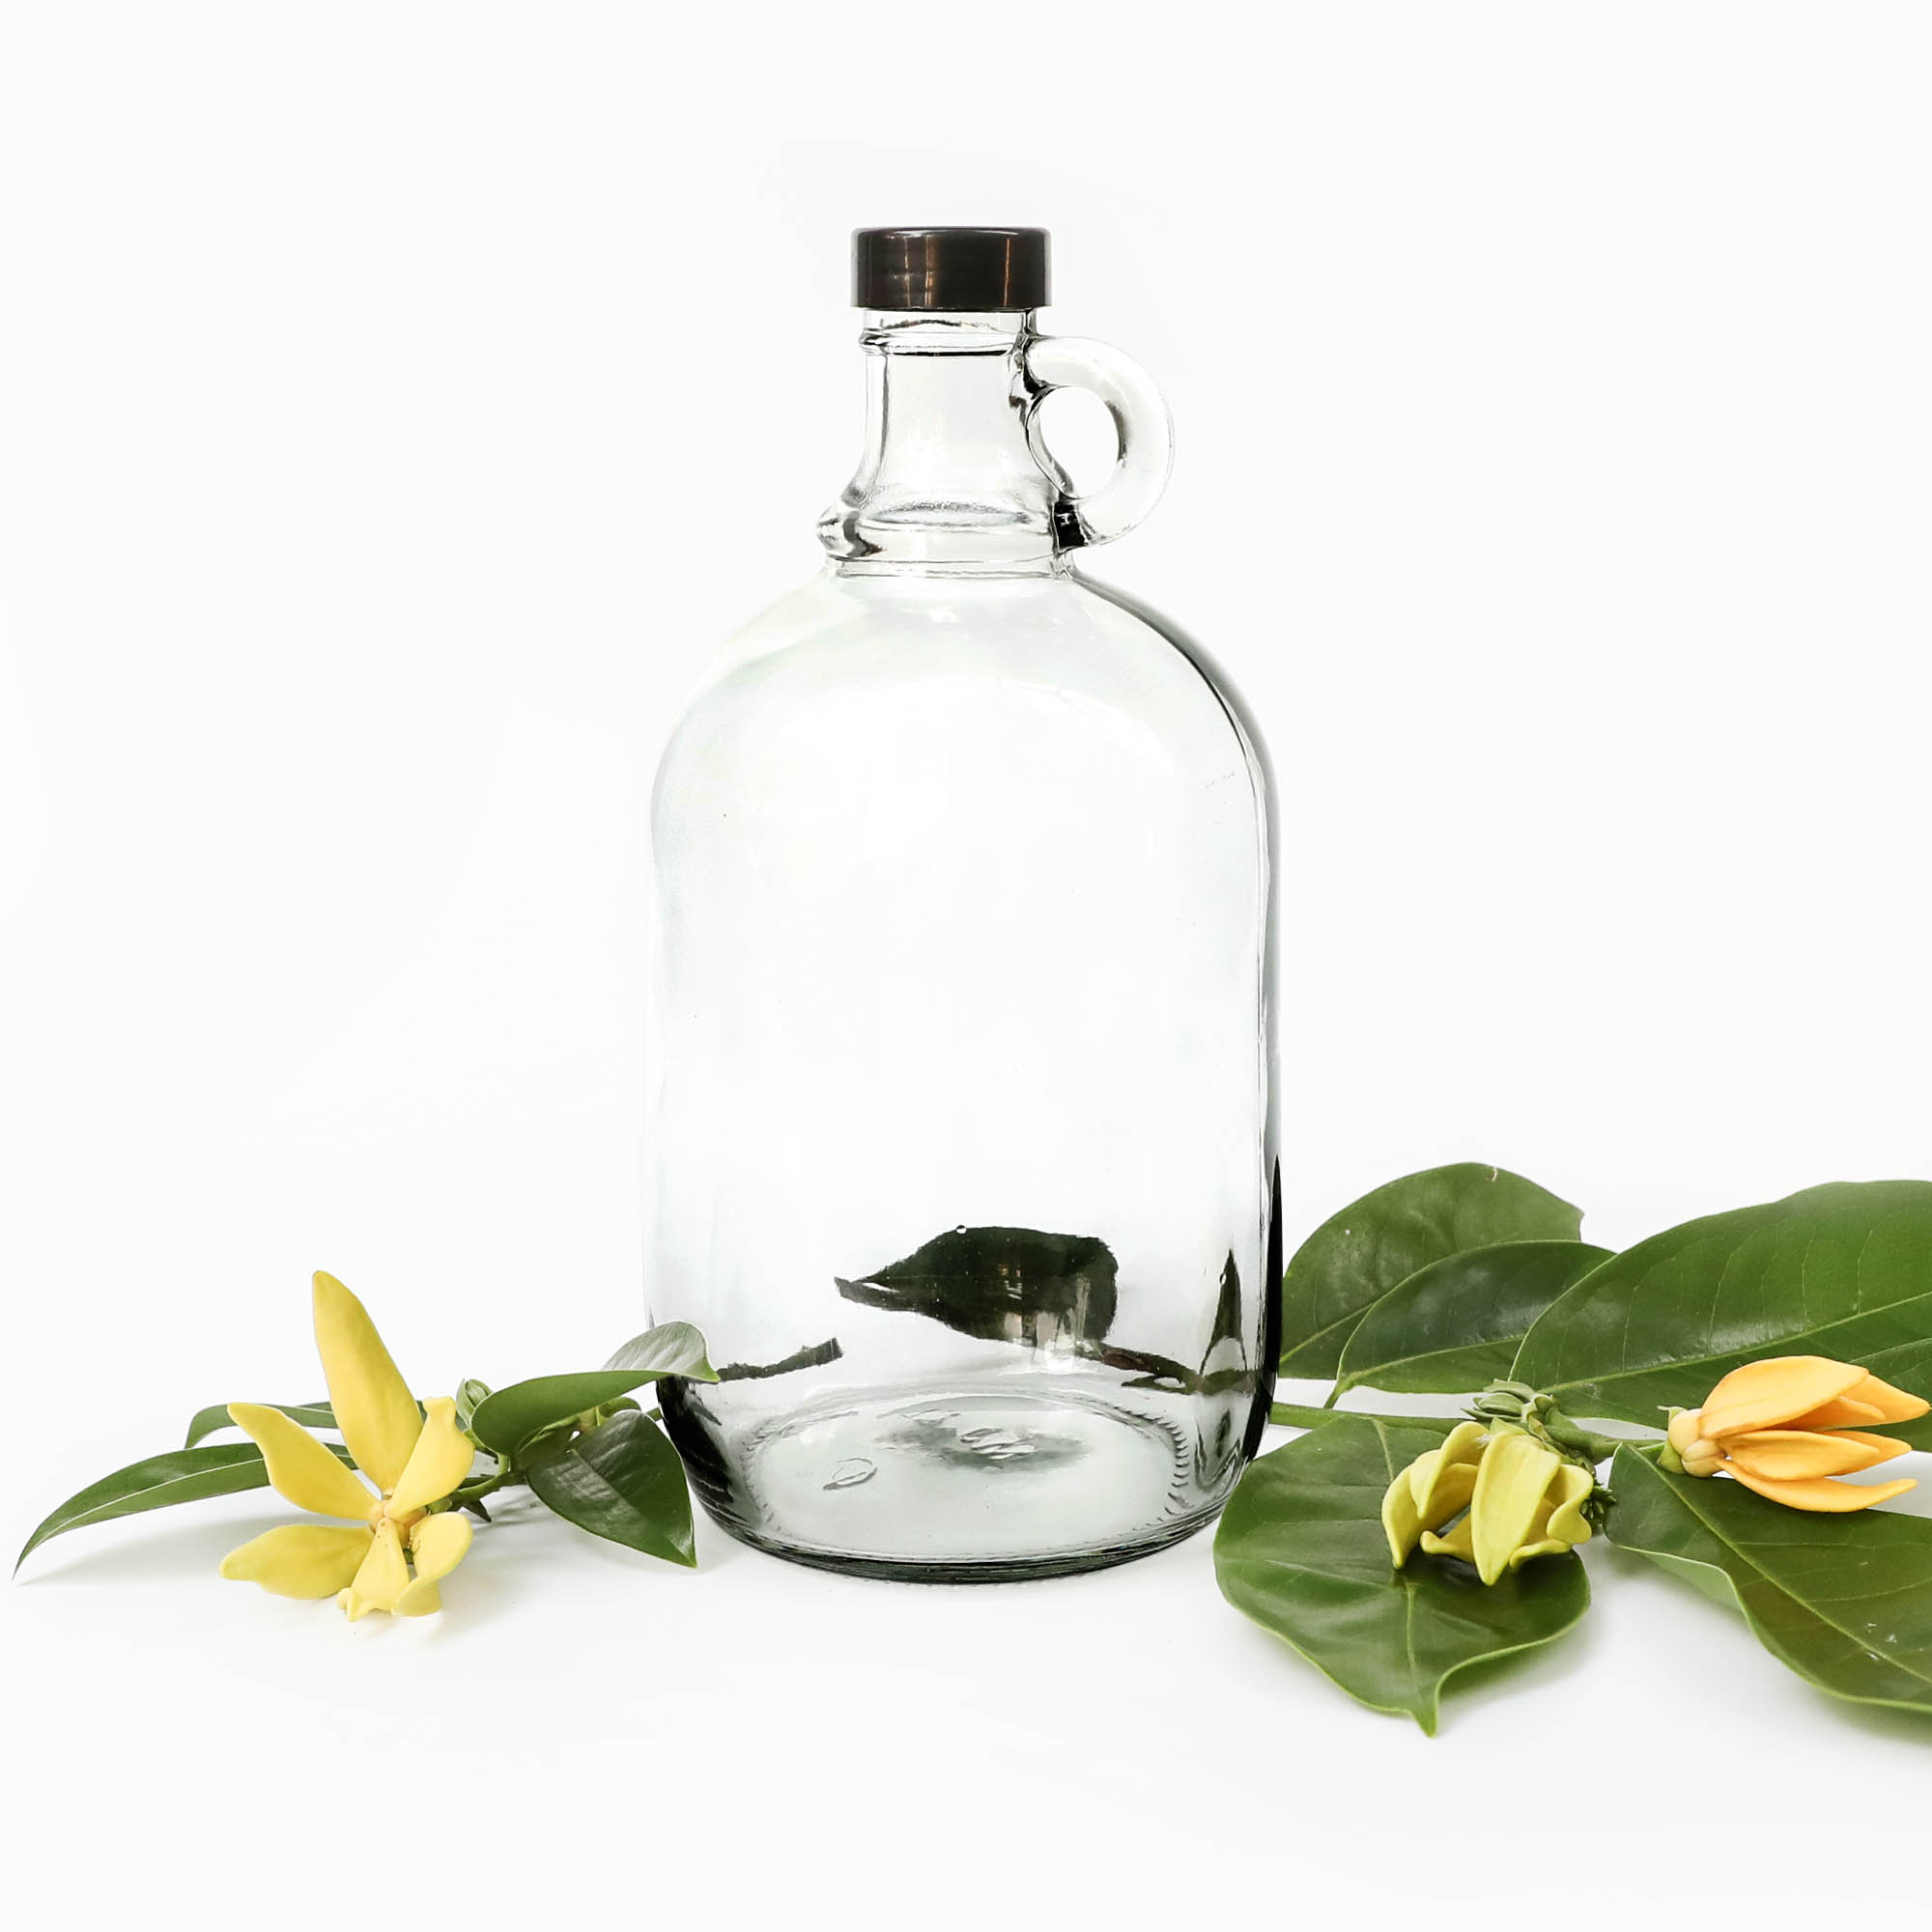glass_bottle: (623, 209, 1299, 1605)
